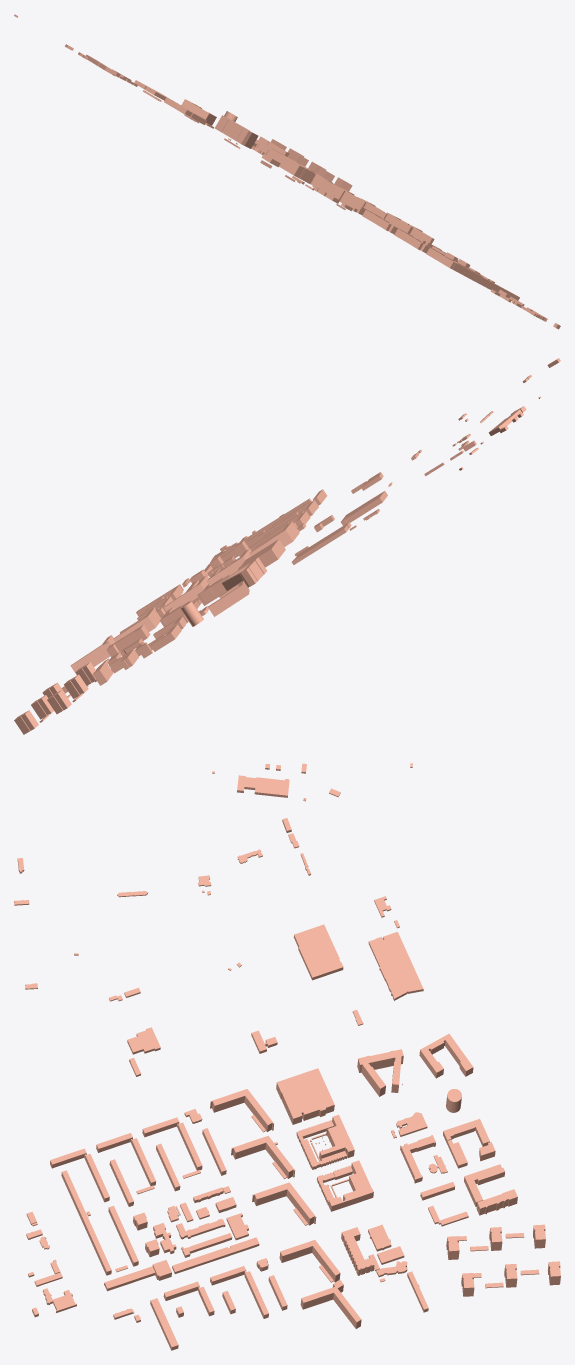
The picture shows the model from 3 angles, top to bottom: view 1: azimuth 30°, elevation 25°; view 2: azimuth 150°, elevation 25°; view 3: azimuth 270°, elevation 25°; orthographic projection. The views are drawn at different scales.
Size of the model in its own units: 1051 by 781 by 1061.
